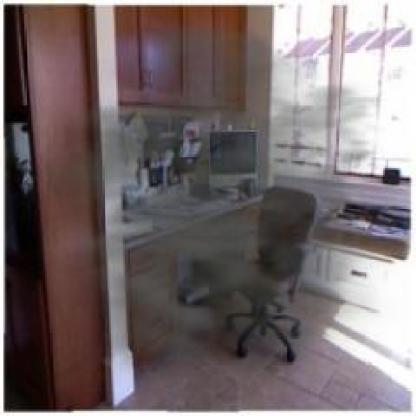Smoke: (47, 26, 414, 390)
